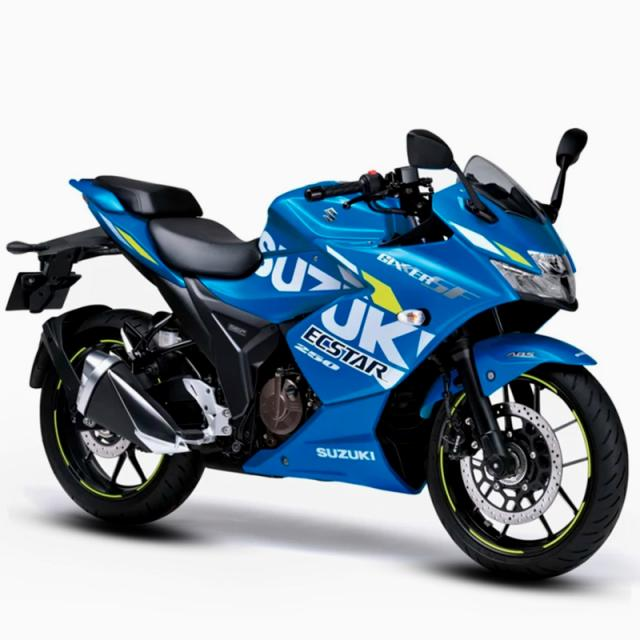MOTORCYCLE: (15, 151, 623, 550)
